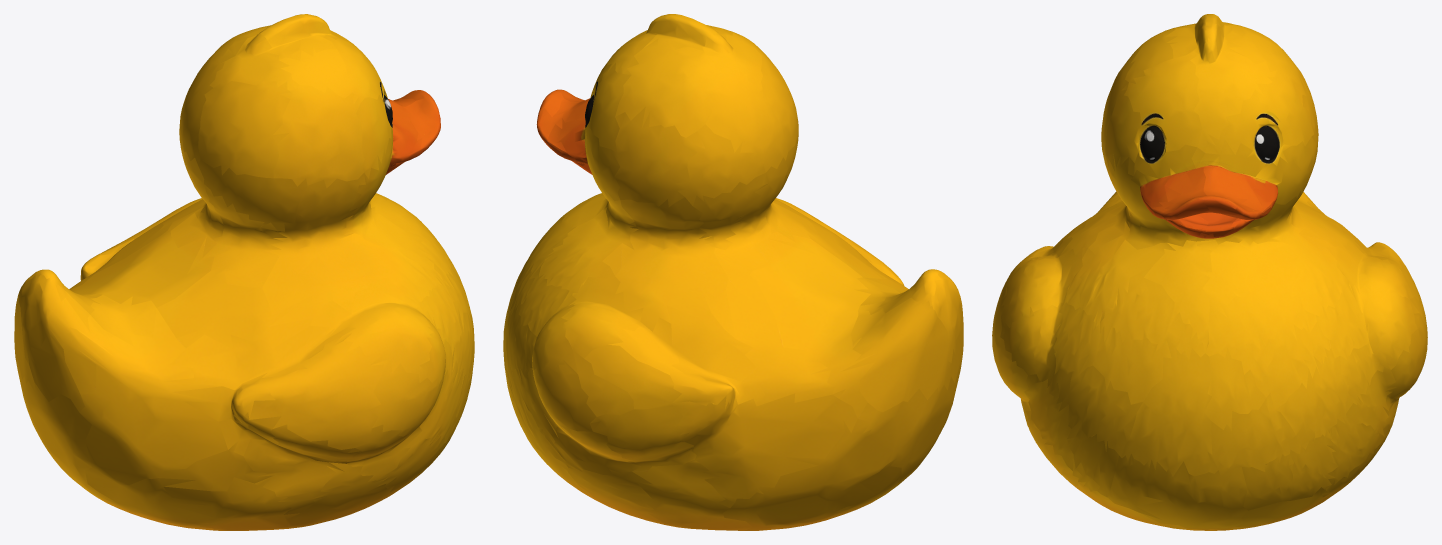
File: duck.glb
The picture shows the model from 3 angles, left to right: view 1: azimuth 30°, elevation 25°; view 2: azimuth 150°, elevation 25°; view 3: azimuth 270°, elevation 25°; orthographic projection. The views are drawn at different scales.
Visible parts, largest first — view 1: duck; view 2: duck; view 3: duck.
Part boxes in pixels (x1,y1,x2,y2): duck: (14,14,474,530); duck: (503,14,963,530); duck: (992,14,1427,530).
Size of the model in its own units: 1.74 by 1.75 by 1.5.
1 material, 1 textured.
